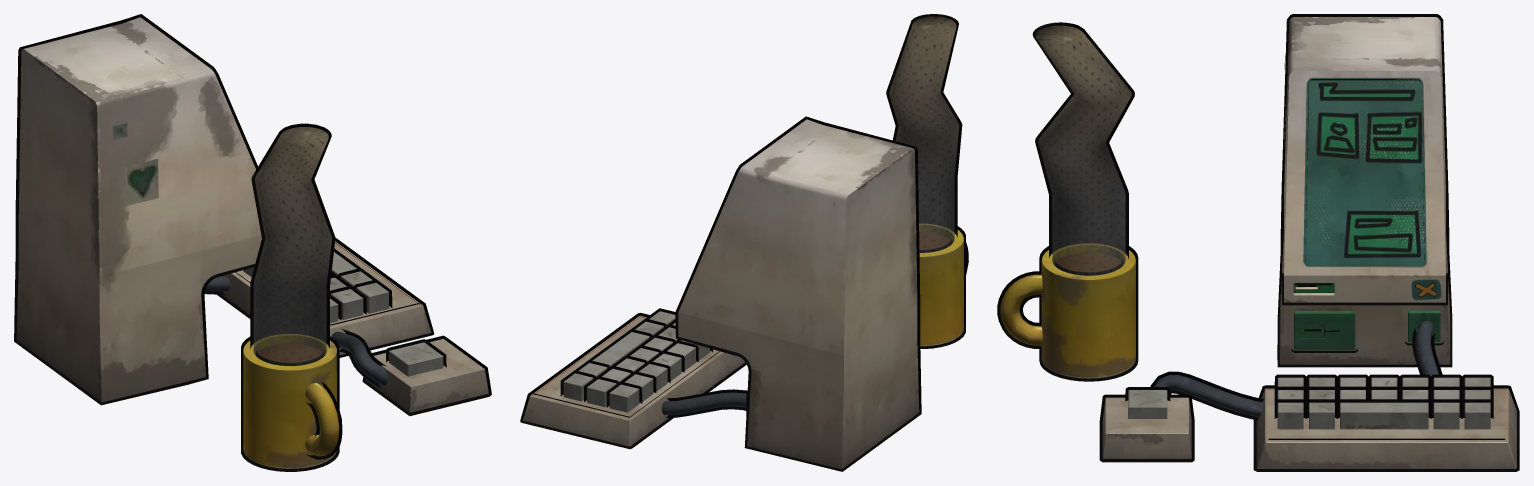
The model's file is computer.glb.
The picture shows the model from 3 angles, left to right: view 1: azimuth 30°, elevation 25°; view 2: azimuth 150°, elevation 25°; view 3: azimuth 270°, elevation 25°; orthographic projection. The views are drawn at different scales.
Parts seen in each view (by area): view 1: Cube_Material_0, Cube.011_Material.001_0, Cylinder.001_Material.006_0; view 2: Cube_Material_0, Cube.011_Material.001_0, Cylinder.001_Material.006_0; view 3: Cube_Material_0, Cube.011_Material.001_0, Cylinder.001_Material.006_0.
Part boxes in pixels (<box>): Cube_Material_0: <box>16,17,488,468</box>; Cube.011_Material.001_0: <box>14,14,491,471</box>; Cylinder.001_Material.006_0: <box>253,127,331,365</box>; Cube_Material_0: <box>523,119,963,469</box>; Cube.011_Material.001_0: <box>520,14,968,471</box>; Cylinder.001_Material.006_0: <box>889,16,959,252</box>; Cube_Material_0: <box>1000,17,1516,468</box>; Cube.011_Material.001_0: <box>997,14,1519,471</box>; Cylinder.001_Material.006_0: <box>1035,25,1131,275</box>.
Bounding box in the file's own units: 3.38 × 3.28 × 4.73.
Materials: 3 (2 with a texture image).
